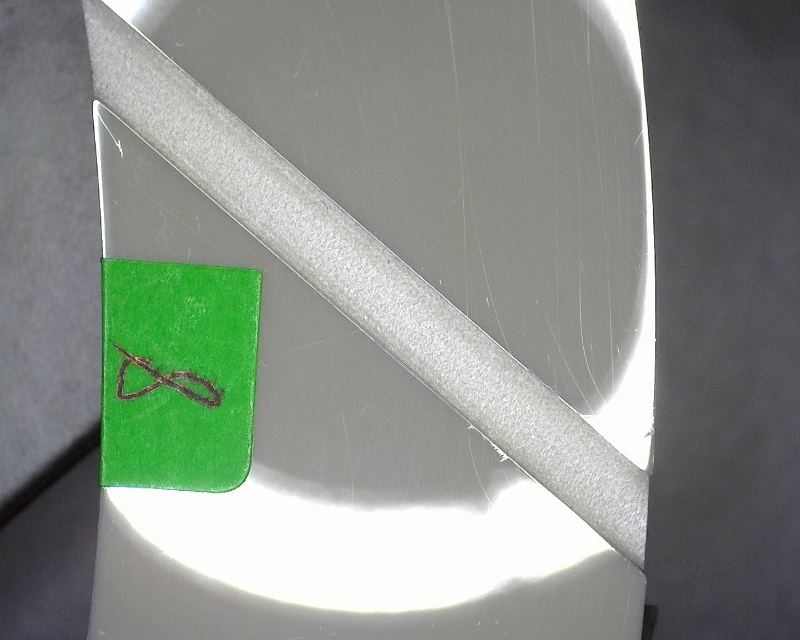scratch: (446, 6, 469, 306), (475, 225, 514, 353), (540, 310, 572, 374), (530, 5, 544, 139), (576, 268, 592, 366), (606, 272, 617, 366), (97, 116, 123, 155), (586, 373, 606, 400), (585, 13, 591, 69), (630, 126, 643, 150)
